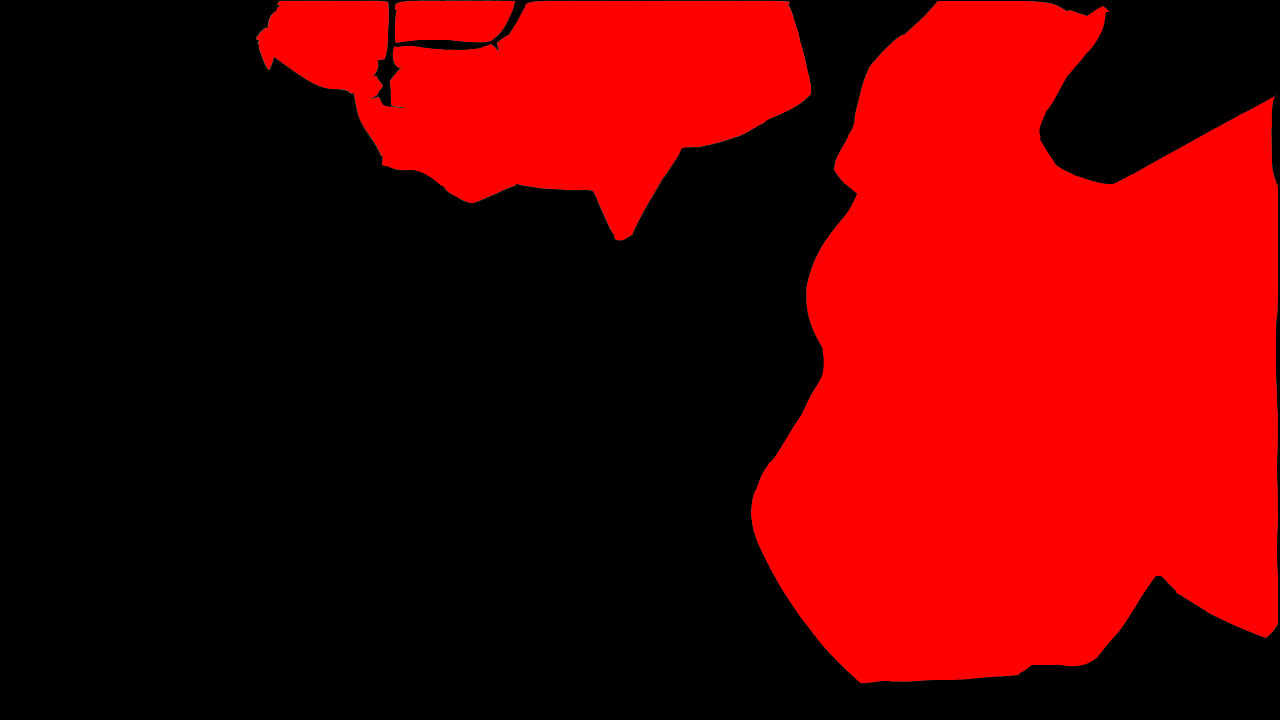uniforme_ifmt: (753, 7, 1280, 687), (250, 1, 811, 331)
